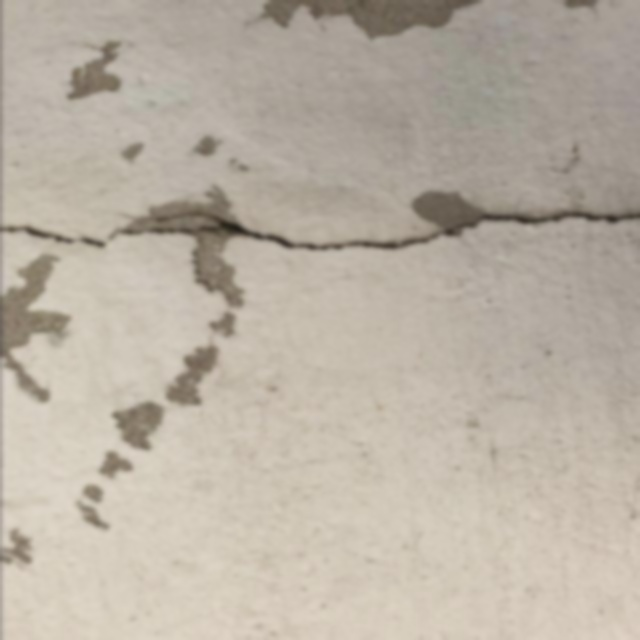SurfaceCrack: (1, 157, 640, 299)
